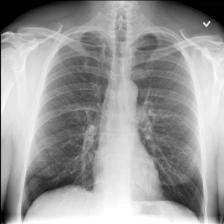normal: (16, 23, 209, 224)
